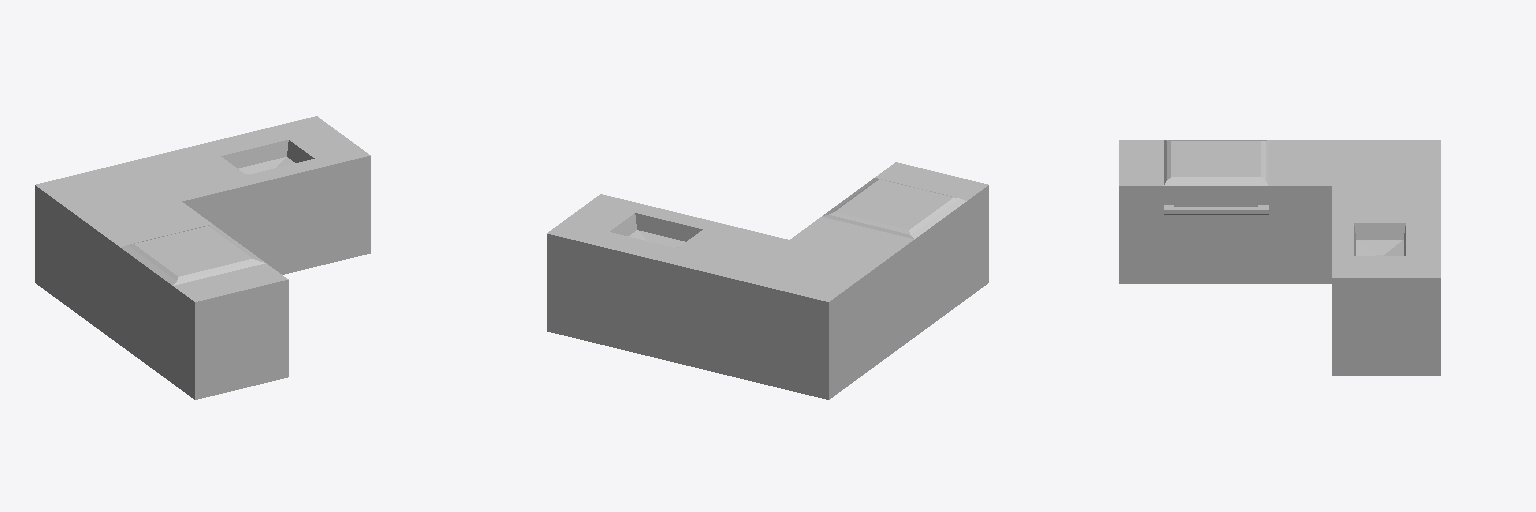
File: KitchenBench.obj
3 renders of one model, left to right at view 1: azimuth 30°, elevation 25°; view 2: azimuth 150°, elevation 25°; view 3: azimuth 270°, elevation 25°, orthographic.
Parts seen in each view (by area): view 1: pCube1; view 2: pCube1; view 3: pCube1.
Boxes of the visible parts, box(x1,y1,x2,y2) form: pCube1: box(35, 116, 370, 399); pCube1: box(547, 162, 988, 399); pCube1: box(1119, 140, 1440, 375).
Bounding box in the file's own units: 12.06 × 4.17 × 11.88.